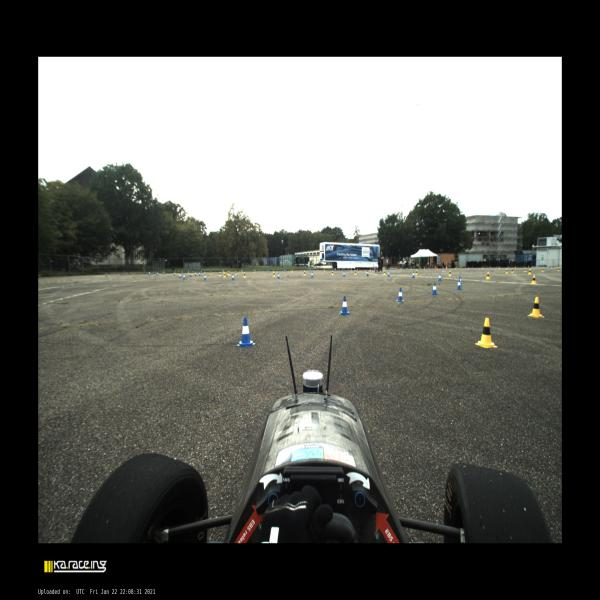blue_cone: (237, 317, 255, 348), (339, 296, 350, 315), (396, 288, 404, 303), (431, 282, 438, 294), (456, 280, 462, 290), (437, 273, 442, 281), (231, 274, 235, 280), (412, 271, 415, 278), (182, 274, 186, 279), (387, 270, 390, 276), (366, 271, 369, 276), (277, 273, 280, 278), (343, 271, 345, 277), (204, 274, 206, 280), (311, 272, 313, 277), (179, 273, 181, 278), (194, 271, 196, 276), (190, 272, 192, 277), (174, 272, 176, 276), (181, 270, 183, 274), (309, 268, 311, 272), (148, 272, 150, 275), (284, 269, 286, 272), (199, 271, 200, 276), (157, 272, 158, 276), (163, 272, 165, 274), (201, 270, 202, 274), (267, 270, 269, 272), (471, 267, 473, 269), (507, 266, 509, 268), (443, 267, 445, 269), (357, 268, 358, 271), (420, 267, 421, 270), (490, 266, 491, 269), (222, 270, 223, 272), (241, 270, 242, 272), (255, 270, 256, 272), (335, 269, 336, 271), (456, 267, 457, 269), (549, 266, 550, 268), (406, 268, 406, 270)
large_orange_cone: (434, 266, 436, 269), (446, 266, 447, 270)
yellow_cone: (476, 318, 497, 348), (527, 297, 544, 318), (530, 275, 537, 284), (486, 272, 490, 279), (528, 268, 532, 275), (448, 270, 452, 276), (510, 268, 514, 273), (557, 266, 560, 272), (415, 269, 418, 275), (354, 269, 357, 275), (331, 270, 334, 276), (243, 272, 246, 278), (223, 272, 226, 278), (541, 267, 544, 272), (383, 270, 386, 275), (228, 271, 231, 276), (506, 268, 508, 274), (524, 268, 527, 272), (219, 271, 221, 277), (304, 271, 306, 276), (273, 272, 275, 277), (235, 270, 237, 275), (210, 271, 212, 275), (192, 271, 194, 275), (204, 270, 206, 274), (324, 268, 326, 272), (253, 270, 255, 273), (350, 268, 352, 271), (369, 268, 371, 271), (424, 267, 426, 270), (436, 267, 438, 270), (175, 272, 177, 274), (178, 271, 179, 275), (291, 270, 293, 272), (392, 268, 394, 270), (468, 266, 469, 270), (482, 267, 484, 269), (531, 266, 533, 268), (188, 271, 189, 274), (411, 267, 412, 270), (499, 266, 500, 269), (515, 266, 516, 269), (551, 265, 552, 268), (455, 267, 456, 269)
